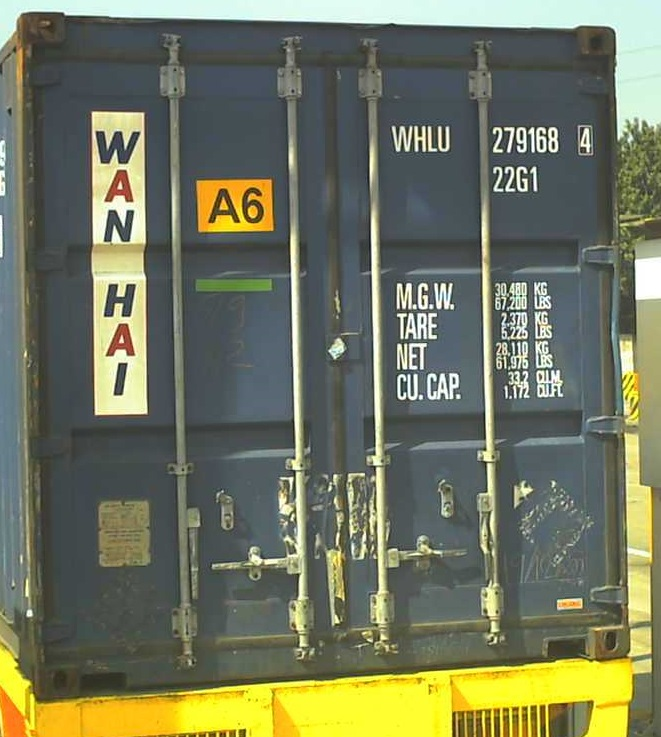container_door: (34, 31, 629, 706)
